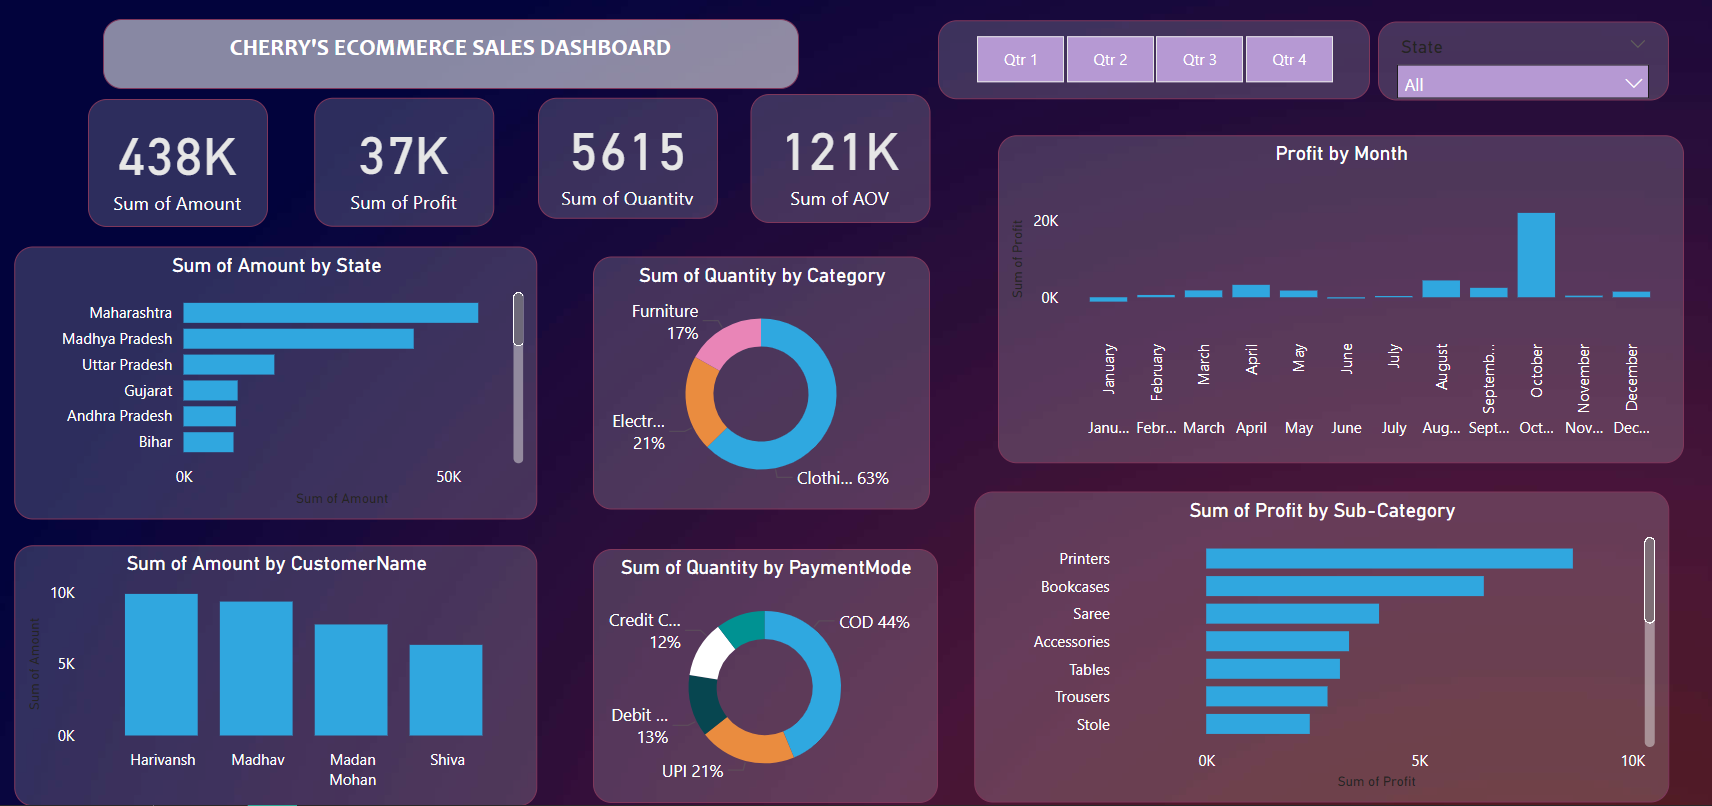

What the dashboard file says about the page in this screenshot:
{"tool":"powerbi","page":{"name":"Page 1","canvas":[1375,738],"ordinal":0},"visuals":[{"type":"textbox","box":[84,16,556.7,55.6],"z":0},{"type":"columnChart","title":"Profit by Month ","fields":{"Category":["Orders.Order Date.Variation.Date Hierarchy.Month","Orders.Order Date.Variation.Date Hierarchy.Year","Orders.Order Date.Variation.Date Hierarchy.Quarter","Orders.Order Date.Variation.Date Hierarchy.Month","Orders.Order Date.Variation.Date Hierarchy.Day"],"Y":["Details.Profit"]},"box":[800,108.9,548.9,262.2],"z":1000},{"type":"barChart","fields":{"Category":["Details.Sub-Category"],"Y":["Details.Profit"]},"box":[781.1,394.4,555.6,248.9],"z":2000},{"type":"donutChart","fields":{"Category":["Details.Category"],"Y":["Details.Quantity"]},"box":[475.6,205.6,270,202.2],"z":3000},{"type":"donutChart","fields":{"Category":["Details.PaymentMode"],"Y":["Details.Quantity"]},"box":[475.6,440,276.7,203.3],"z":4000},{"type":"card","fields":{"Values":["Details.Amount"]},"box":[72.2,80,143.3,102.2],"z":5000},{"type":"card","fields":{"Values":["Details.Quantity"]},"box":[432.2,78.9,143.3,96.7],"z":6000},{"type":"card","fields":{"Values":["Details.Profit"]},"box":[253.3,78.9,143.3,103.3],"z":7000},{"type":"card","fields":{"Values":["Details.AOV"]},"box":[602.2,75.6,143.3,103.3],"z":8000},{"type":"barChart","fields":{"Category":["Orders.State"],"Y":["Details.Amount"]},"box":[13.3,197.8,418.9,217.8],"z":9000},{"type":"columnChart","fields":{"Category":["Orders.CustomerName"],"Y":["Details.Amount"]},"box":[13.3,436.7,418.9,208.9],"z":10000},{"type":"slicer","fields":{"Values":["Orders.Order Date.Variation.Date Hierarchy.Quarter"]},"box":[752.2,16.7,345.6,63.3],"z":11000},{"type":"slicer","fields":{"Values":["Orders.State"]},"box":[1104.4,17.8,232.2,63.3],"z":12000}]}

Visuals, with their boxes on the page's 1375x738 design canvas (x1, y1, x2, y2). These are canvas units, not pixel positions in the 1712x806 screenshot, which may show the page scaled, cropped or inside an application window:
textbox: <region>84, 16, 641, 72</region>
"Profit by Month " columnChart: <region>800, 109, 1349, 371</region>
barChart - Details.Sub-Category x Details.Profit: <region>781, 394, 1337, 643</region>
donutChart - Details.Category x Details.Quantity: <region>476, 206, 746, 408</region>
donutChart - Details.PaymentMode x Details.Quantity: <region>476, 440, 752, 643</region>
card - Details.Amount: <region>72, 80, 216, 182</region>
card - Details.Quantity: <region>432, 79, 576, 176</region>
card - Details.Profit: <region>253, 79, 397, 182</region>
card - Details.AOV: <region>602, 76, 746, 179</region>
barChart - Orders.State x Details.Amount: <region>13, 198, 432, 416</region>
columnChart - Orders.CustomerName x Details.Amount: <region>13, 437, 432, 646</region>
slicer - Orders.Order Date.Variation.Date Hierarchy.Quarter: <region>752, 17, 1098, 80</region>
slicer - Orders.State: <region>1104, 18, 1337, 81</region>
